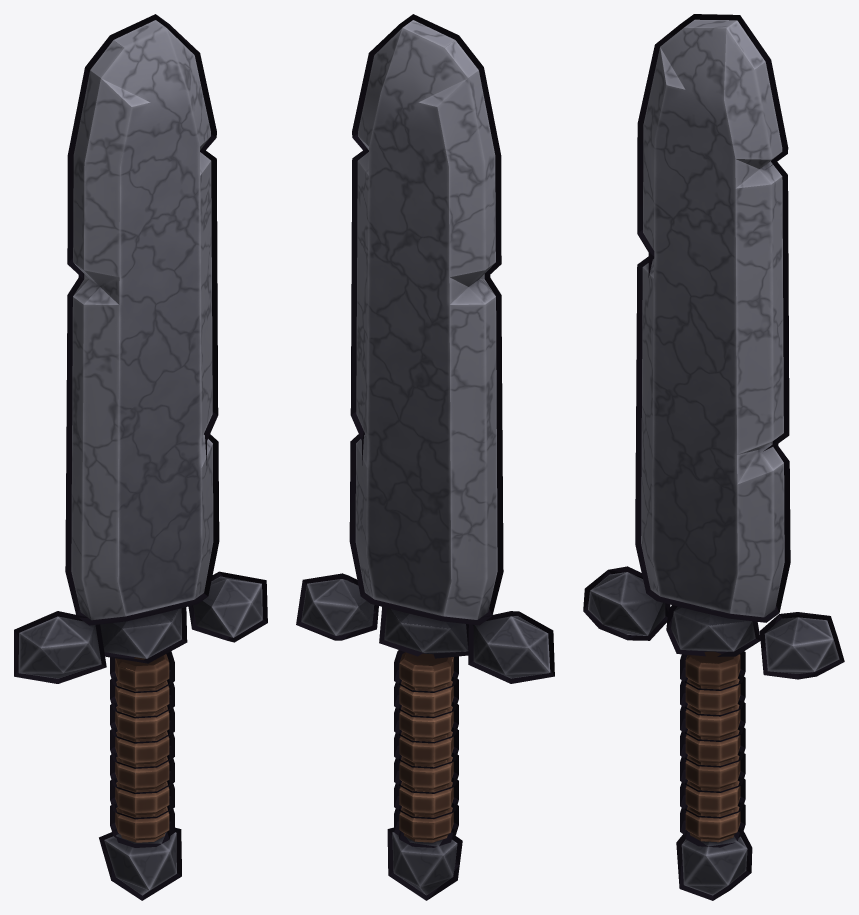
Rendered from BasaltSword.fbx.
3 renders of one model, left to right at view 1: azimuth 30°, elevation 25°; view 2: azimuth 150°, elevation 25°; view 3: azimuth 330°, elevation 25°, orthographic.
Visible parts, largest first — view 1: BasaltSword, BasaltSwordOutline; view 2: BasaltSword, BasaltSwordOutline; view 3: BasaltSword, BasaltSwordOutline.
Part boxes in pixels (x1,y1,x2,y2): BasaltSword: (18,20,262,895); BasaltSwordOutline: (14,14,267,900); BasaltSword: (301,20,550,895); BasaltSwordOutline: (296,14,554,900); BasaltSword: (588,19,839,895); BasaltSwordOutline: (583,14,844,900).
Size of the model in its own units: 108 by 357 by 30.71.
2 materials, 1 textured.
